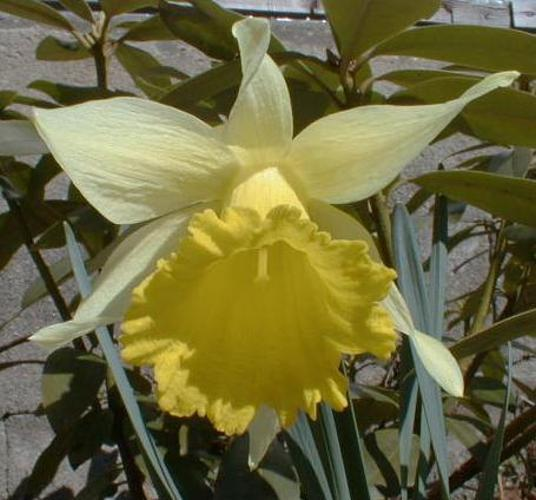flower1: (113, 153, 409, 445)
